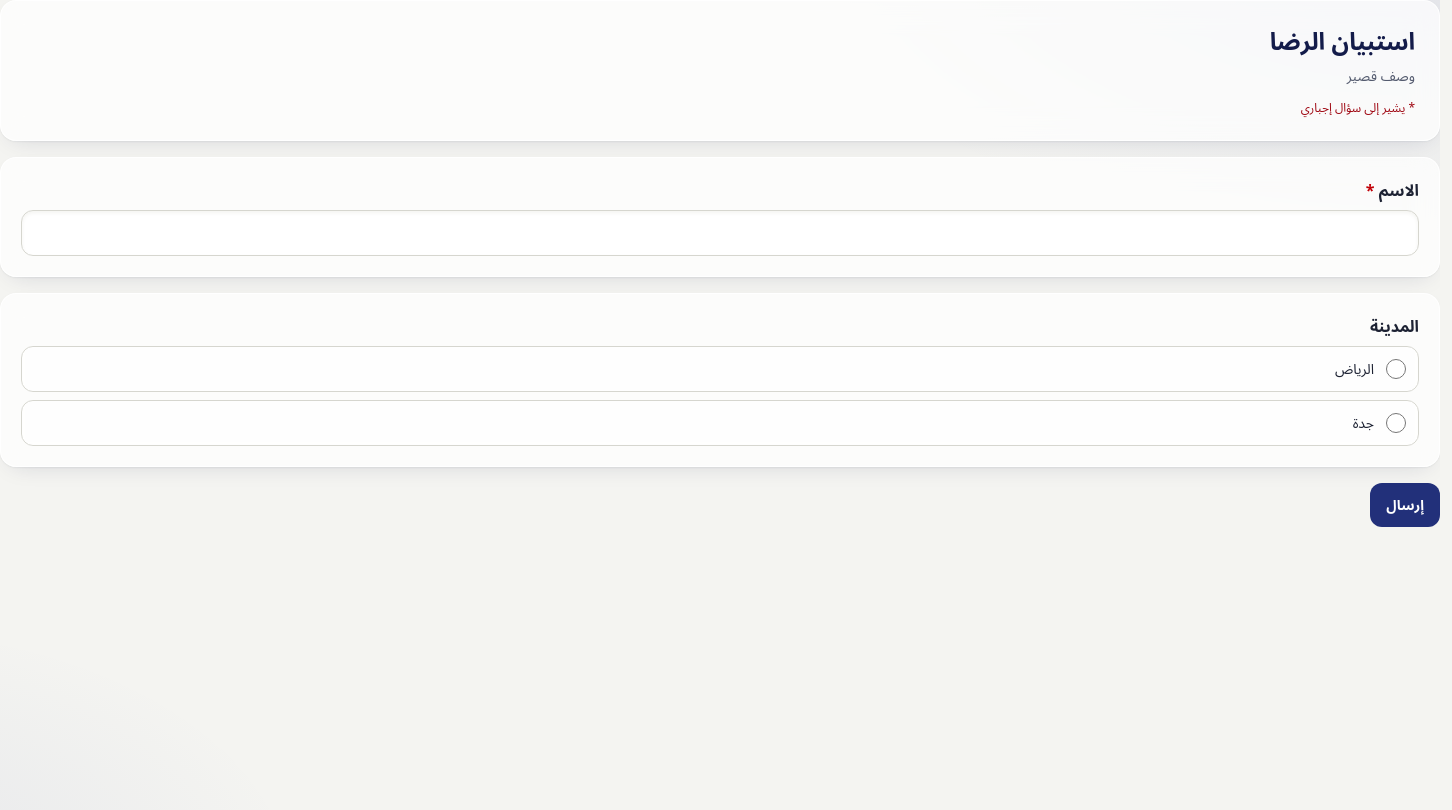
Scenario: shows only the public form (no admin tools or preview banner) and validates locally
Expected: the heading "استبيان الرضا" is shown, [1270,24,1415,57]
Click the button "إرسال". click: (1405, 505)
box: [1370,483,1440,527]
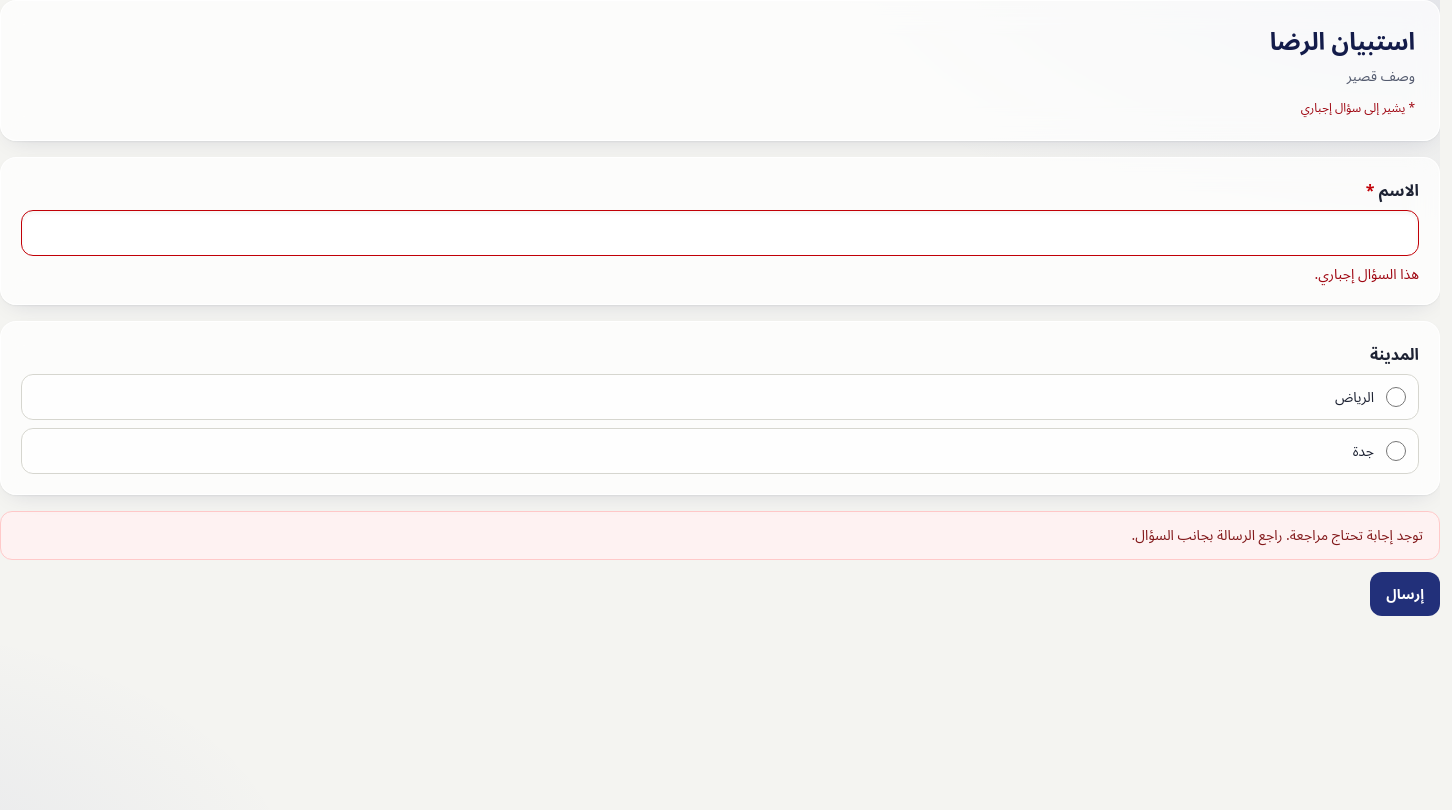
Expected: the text "هذا السؤال إجباري." is shown, [1314,264,1419,283]
